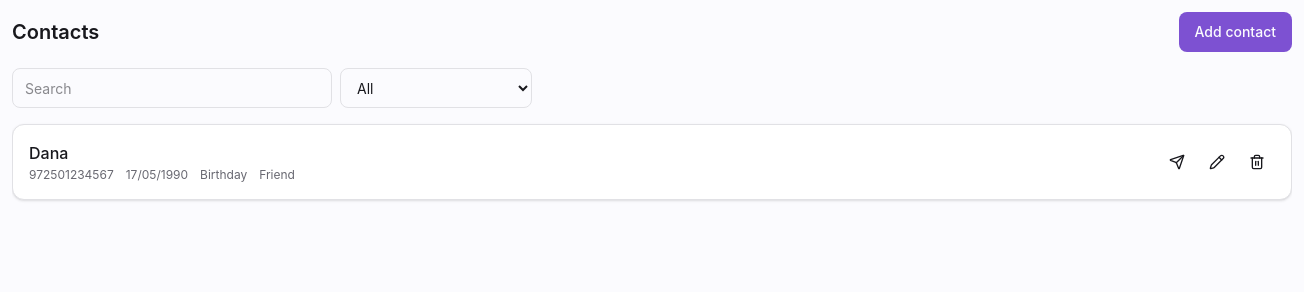
Test case: send now › confirms a success
Expected: the text "Dana" is shown, [29,141,68,165]
Click the button named "Send now".
click(1177, 162)  # box [1159,144,1195,180]
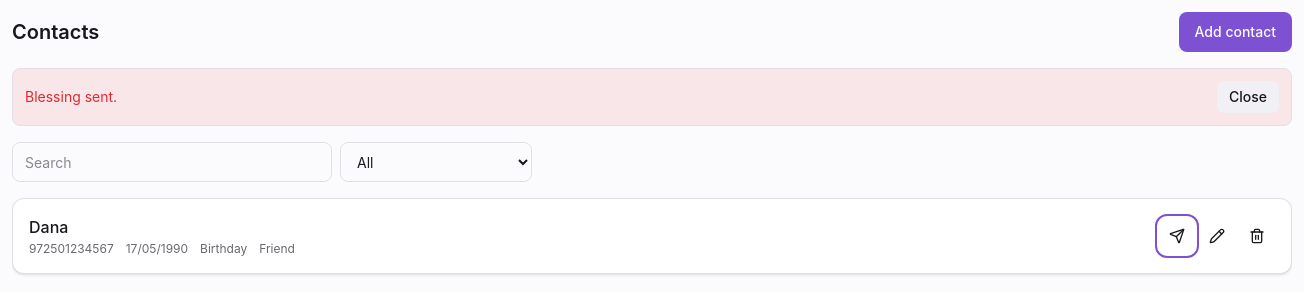
Result: the text "Blessing sent." is shown at [25,88,117,105]
